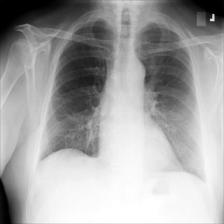normal: (32, 15, 211, 187)
